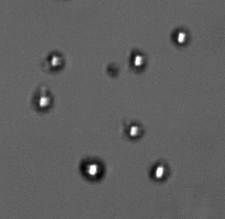Dead Cell: (106, 61, 120, 77)
Living Cell: (79, 156, 105, 183), (32, 87, 55, 111), (148, 158, 170, 183), (128, 47, 148, 71), (123, 119, 144, 140), (170, 27, 191, 46), (45, 51, 64, 71)
